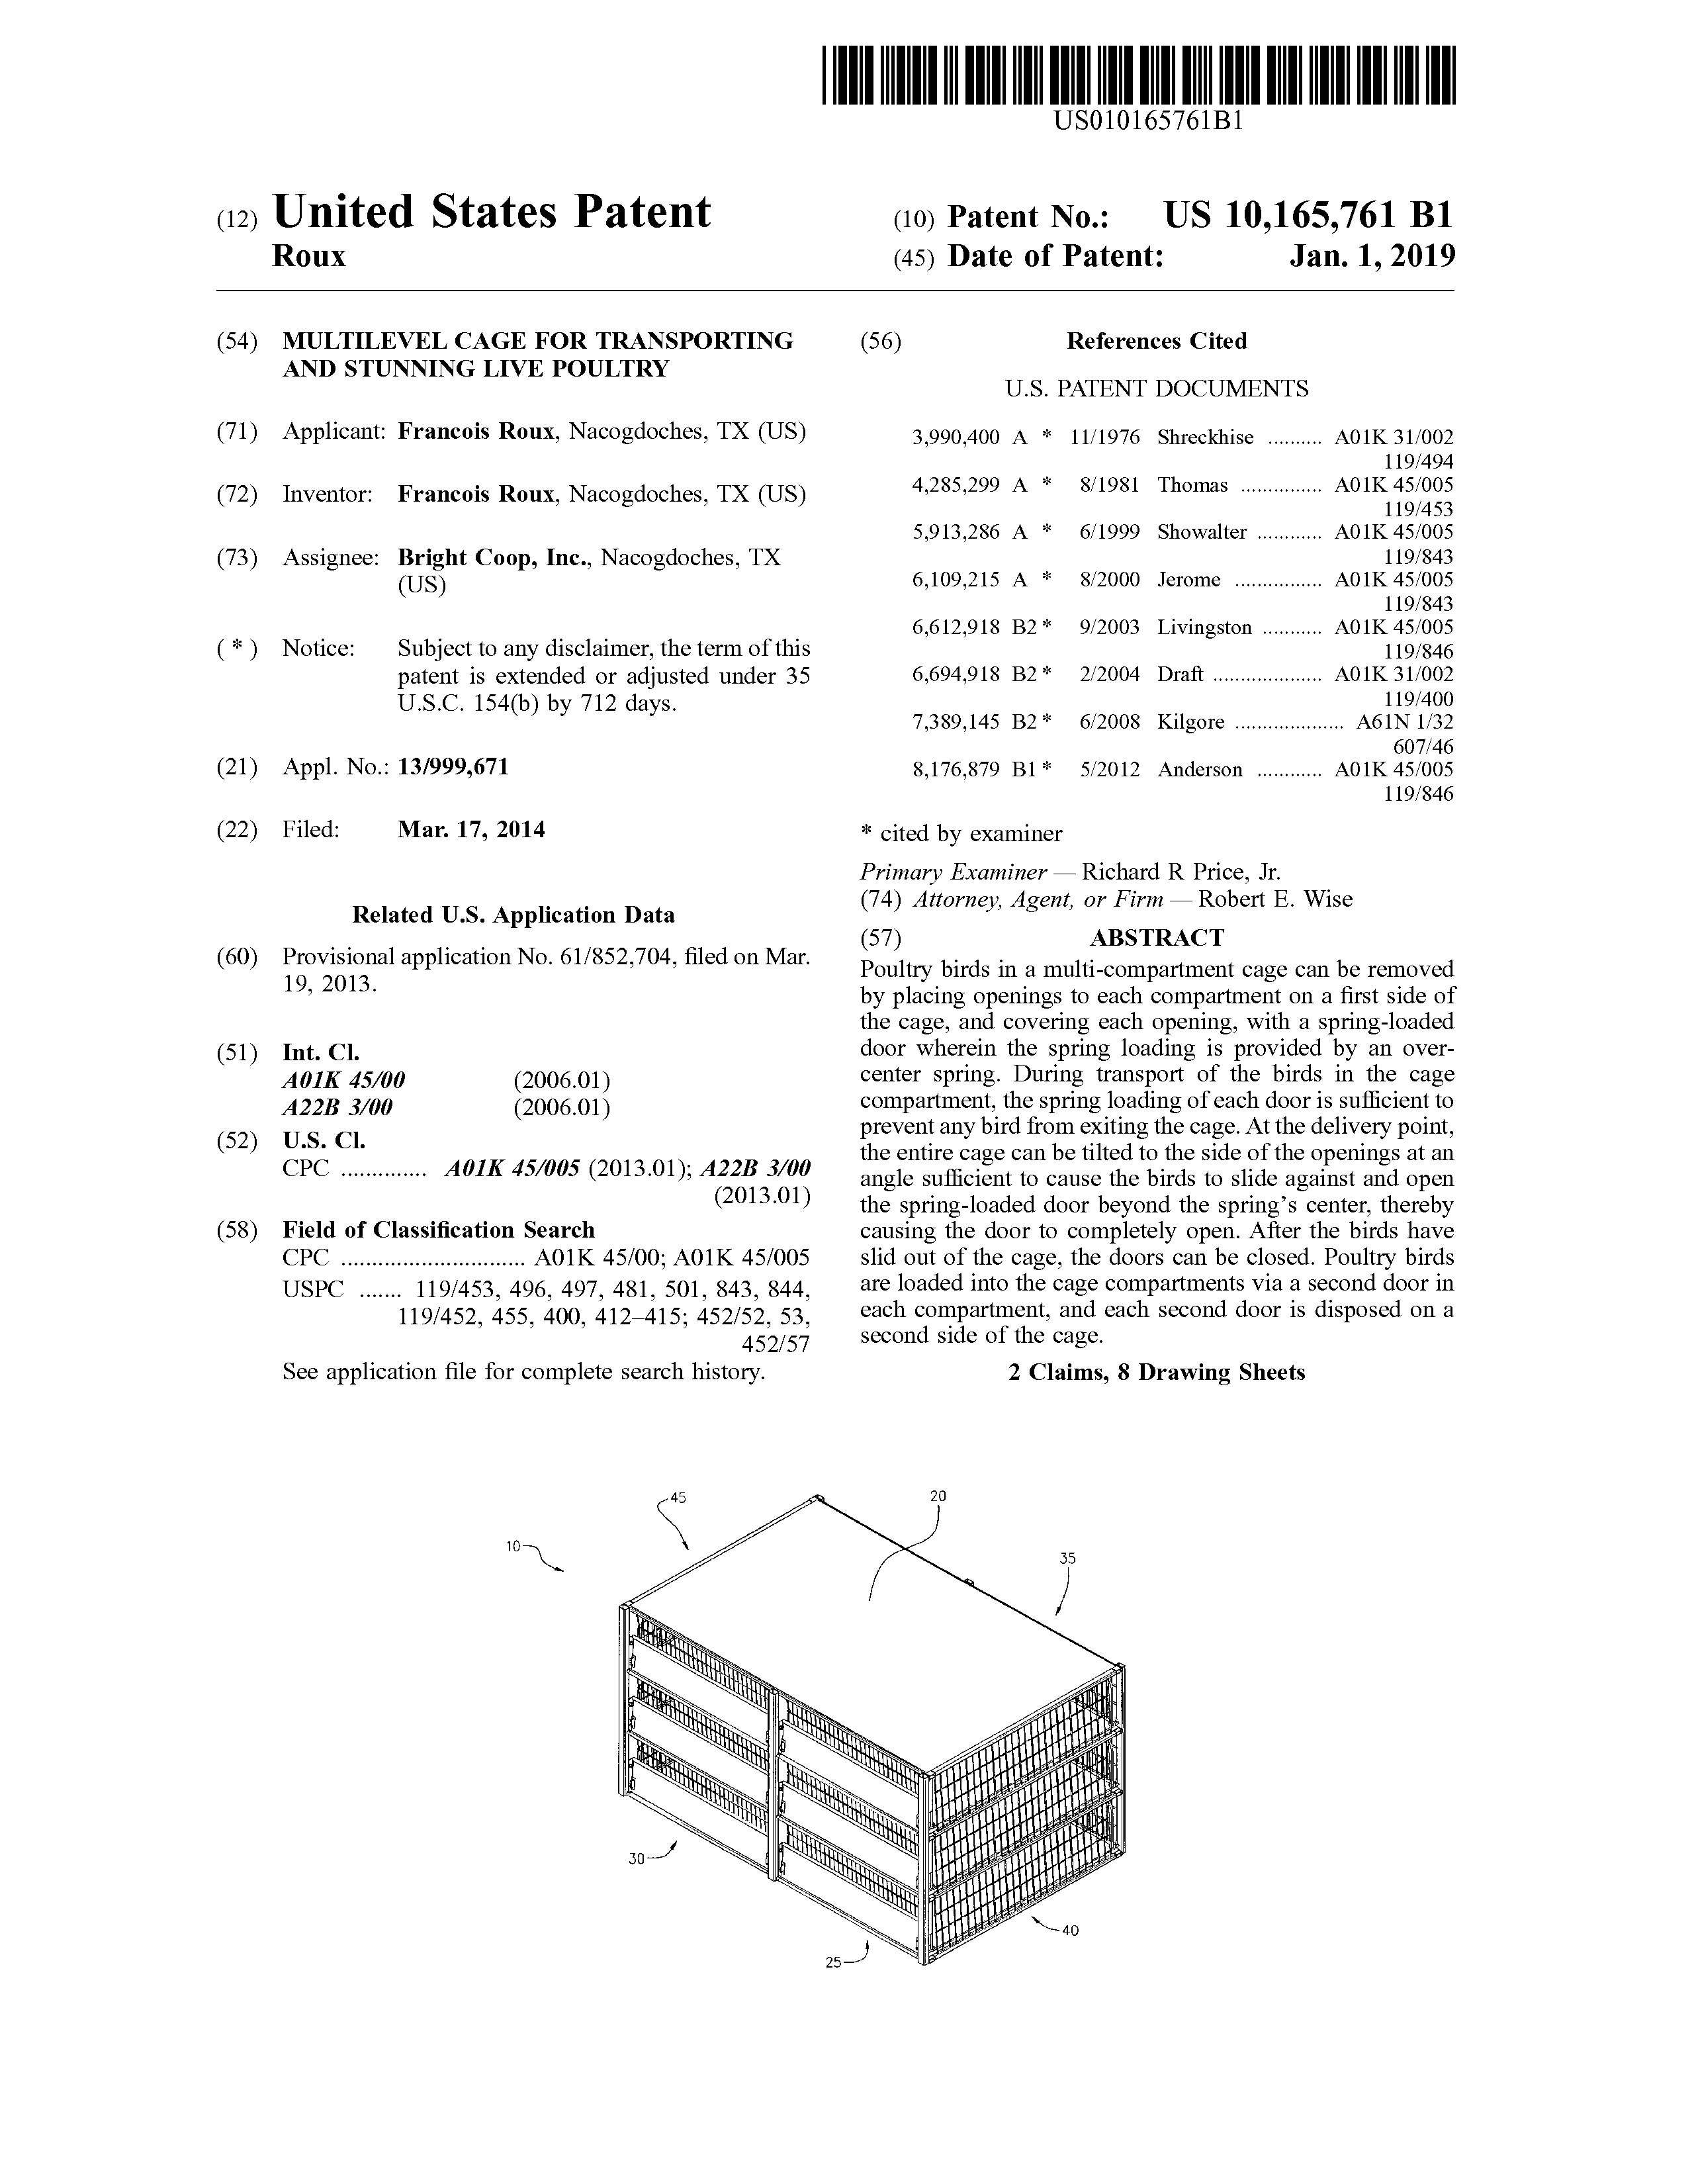patent image: (435, 1439, 1234, 2019)
